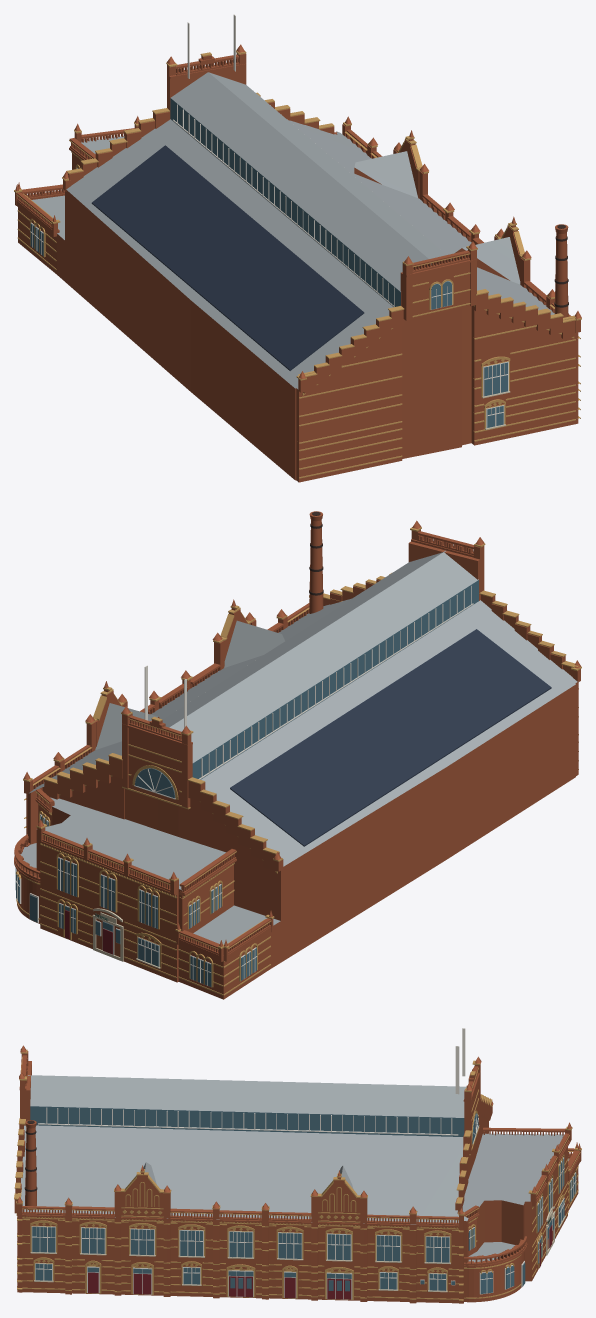
File: zuiderbad.glb
The picture shows the model from 3 angles, top to bottom: view 1: azimuth 30°, elevation 25°; view 2: azimuth 150°, elevation 25°; view 3: azimuth 270°, elevation 25°; orthographic projection. The views are drawn at different scales.
Parts seen in each view (by area): view 1: zuiderbad; view 2: zuiderbad; view 3: zuiderbad.
Part boxes in pixels (bbox=[...]): zuiderbad: bbox=[14, 14, 581, 482]; zuiderbad: bbox=[14, 511, 581, 999]; zuiderbad: bbox=[14, 1028, 581, 1303].
Size of the model in its own units: 34.1 by 26.3 by 64.73.
